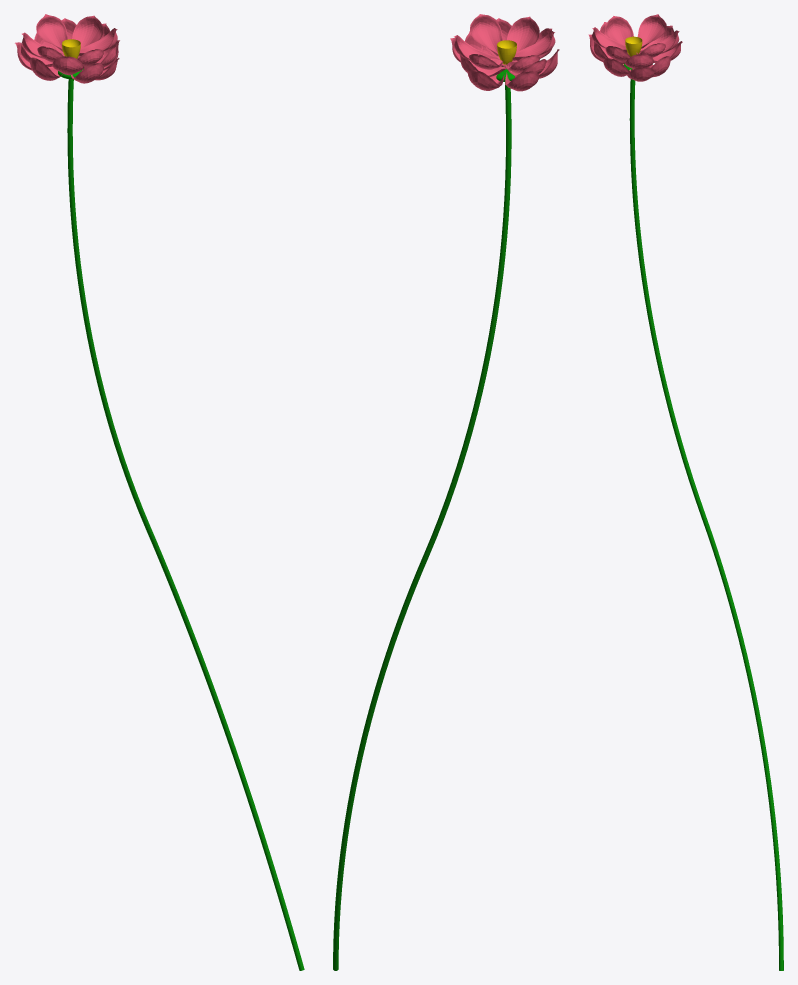
The model's file is Lotus081.fbx.
The picture shows the model from 3 angles, left to right: view 1: azimuth 30°, elevation 25°; view 2: azimuth 150°, elevation 25°; view 3: azimuth 330°, elevation 25°; orthographic projection. The views are drawn at different scales.
Parts seen in each view (by area): view 1: pCylinder5, nurbsToPoly23, nurbsToPoly19; view 2: pCylinder5, nurbsToPoly22, nurbsToPoly18, nurbsToPoly21, nurbsToPoly10; view 3: pCylinder5, nurbsToPoly23, nurbsToPoly20.
Boxes of the visible parts, <box> form: pCylinder5: <box>67,79,304,970</box>; nurbsToPoly23: <box>36,14,68,51</box>; nurbsToPoly19: <box>72,15,103,48</box>; pCylinder5: <box>333,82,511,970</box>; nurbsToPoly22: <box>470,14,502,56</box>; nurbsToPoly18: <box>507,16,539,52</box>; nurbsToPoly21: <box>512,31,555,60</box>; nurbsToPoly10: <box>467,70,504,90</box>; pCylinder5: <box>629,79,783,970</box>; nurbsToPoly23: <box>637,14,666,48</box>; nurbsToPoly20: <box>605,16,633,45</box>.
Size of the model in its own units: 52.46 by 199 by 24.27.
